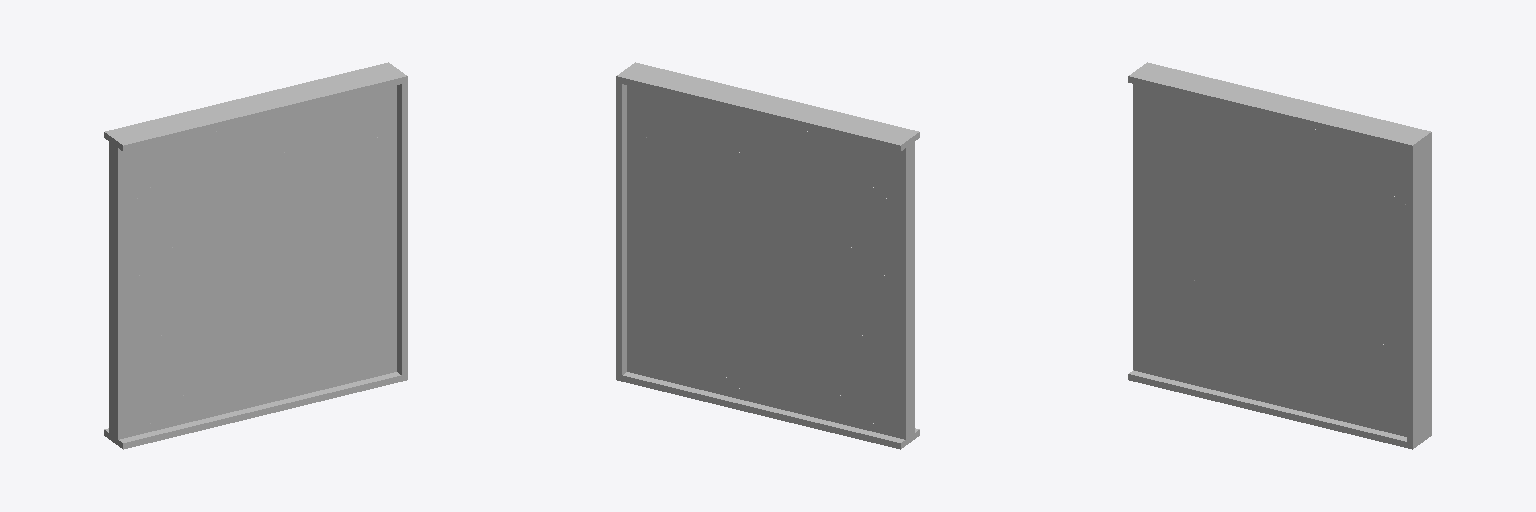
The model's file is HVACFilter.obj.
3 views of the same model, side by side, from view 1: azimuth 30°, elevation 25°; view 2: azimuth 150°, elevation 25°; view 3: azimuth 330°, elevation 25° (orthographic).
Parts seen in each view (by area): view 1: HVACFilter.obj; view 2: HVACFilter.obj; view 3: HVACFilter.obj.
Part boxes in pixels (x1,y1,x2,y2): HVACFilter.obj: (104, 62, 407, 449); HVACFilter.obj: (616, 62, 919, 449); HVACFilter.obj: (1128, 62, 1431, 449).
Size of the model in its own units: 1.2 by 1.22 by 0.1381.